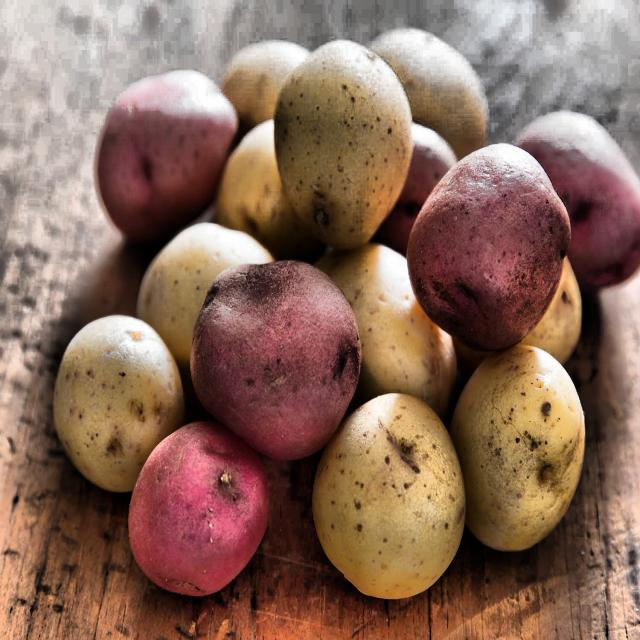potato: (13, 12, 620, 616)
